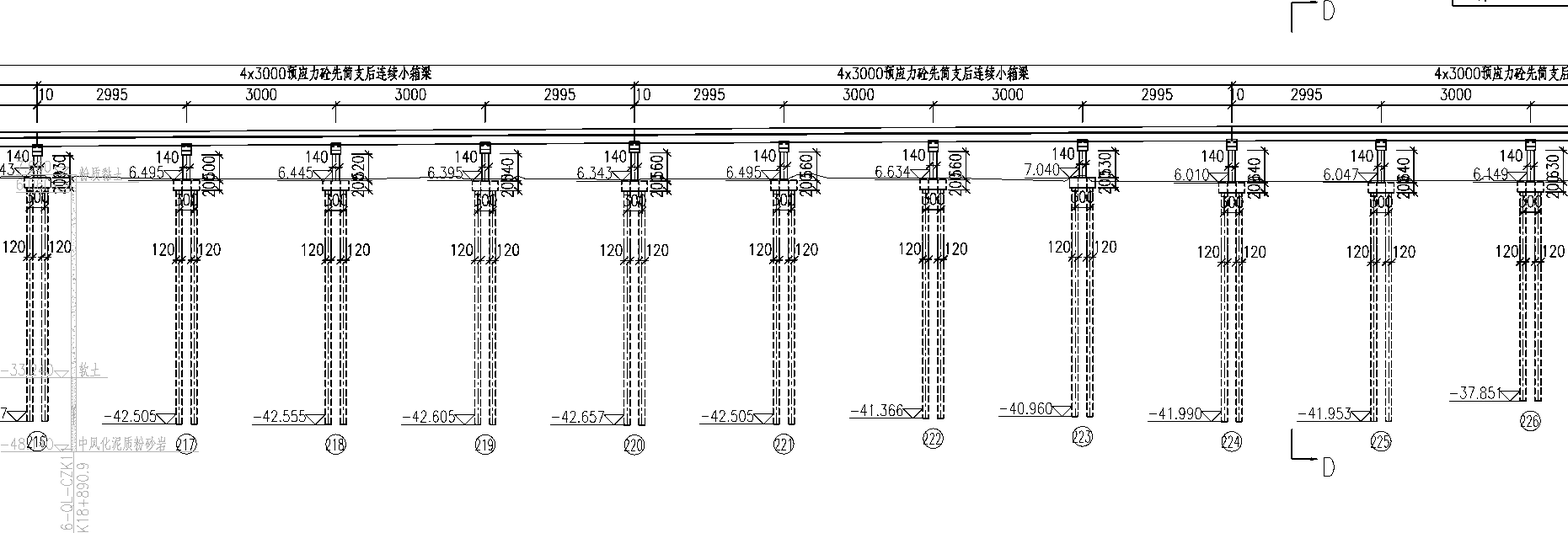C: (248, 134, 365, 465), (396, 133, 511, 464), (845, 131, 961, 457), (698, 133, 811, 463), (997, 129, 1111, 456), (1147, 130, 1259, 461), (549, 134, 661, 464), (100, 136, 212, 464), (1446, 130, 1560, 443), (1294, 131, 1401, 462), (0, 156, 54, 460)
